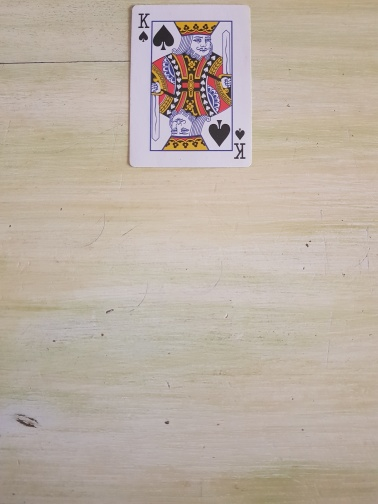king: (127, 4, 254, 169)
